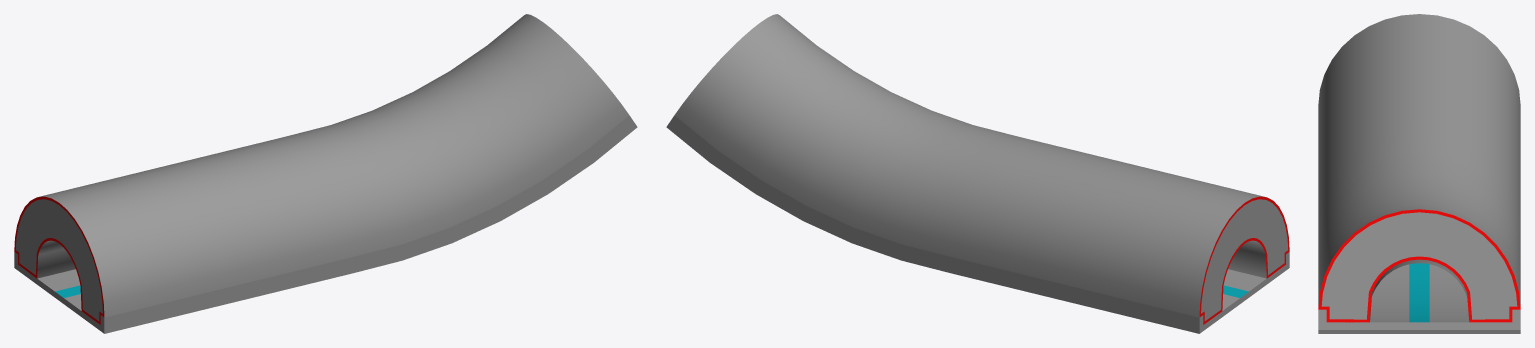
The model's file is mesh_road_tunnel_ramp.FBX.
The picture shows the model from 3 angles, left to right: view 1: azimuth 30°, elevation 25°; view 2: azimuth 150°, elevation 25°; view 3: azimuth 270°, elevation 25°; orthographic projection. The views are drawn at different scales.
Parts seen in each view (by area): view 1: Box001; view 2: Box001; view 3: Box001.
Boxes of the visible parts, x1,y1,x2,y2 form: Box001: (14,14,637,333); Box001: (666,14,1289,333); Box001: (1318,14,1520,333).
Size of the model in its own units: 137 by 39.23 by 40.
